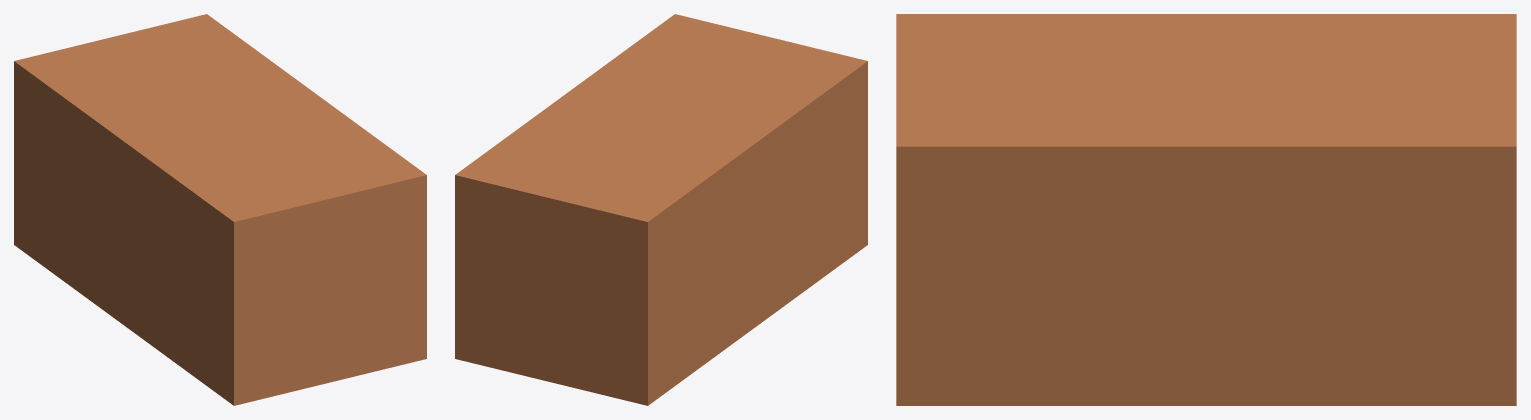
3 views of the same model, side by side, from view 1: azimuth 30°, elevation 25°; view 2: azimuth 150°, elevation 25°; view 3: azimuth 270°, elevation 25° (orthographic). The views are drawn at different scales.
Visible parts, largest first — view 1: box_3_4, box_3_3, box_3_7, box_3_6, box_3_1, box_3_8; view 2: box_3_4, box_3_5, box_3_7, box_3_6, box_3_1, box_3_8; view 3: box_3_2, box_3_7, box_3_6, box_3_1, box_3_8.
Part boxes in pixels (x1,y1,x2,y2): box_3_4: (14,61,233,405); box_3_3: (234,175,426,405); box_3_7: (14,37,329,221); box_3_6: (111,14,425,197); box_3_1: (164,97,426,221); box_3_8: (112,14,311,117); box_3_4: (648,61,867,405); box_3_5: (455,175,647,405); box_3_7: (552,37,867,221); box_3_6: (456,15,770,197); box_3_1: (566,14,770,117); box_3_8: (455,95,660,198); box_3_2: (896,146,1516,405); box_3_7: (896,14,1516,80); box_3_6: (896,80,1516,146); box_3_1: (896,80,1206,146); box_3_8: (1206,80,1516,145).
Bounding box in the file's own units: 56.47 × 51.43 × 112.
